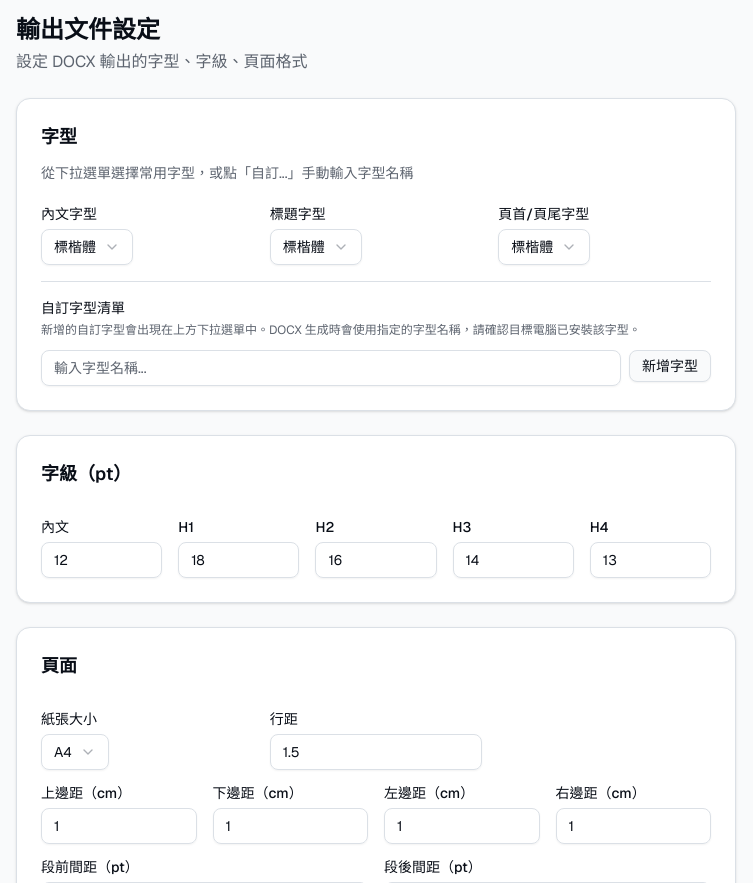
Test: DocumentSettingsPage — 自訂字型管理 › 可移除自訂字型（點擊 badge）
In the field with placeholder "輸入字型名稱...": (331, 368) [41,350,621,386], type "可刪字型"
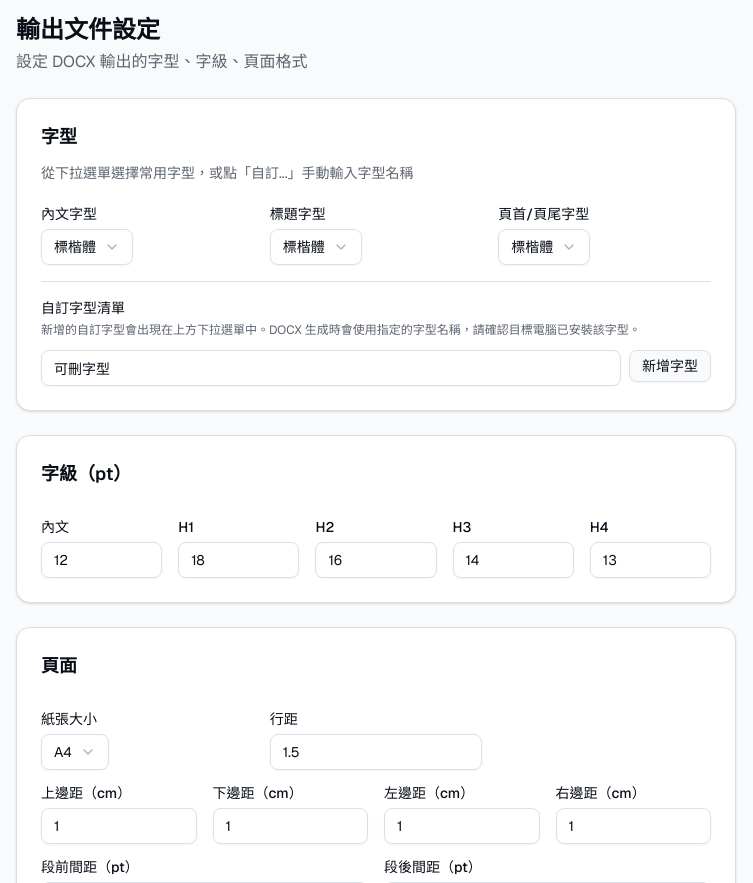
Click the button "新增字型": (670, 366) [629,350,711,382]
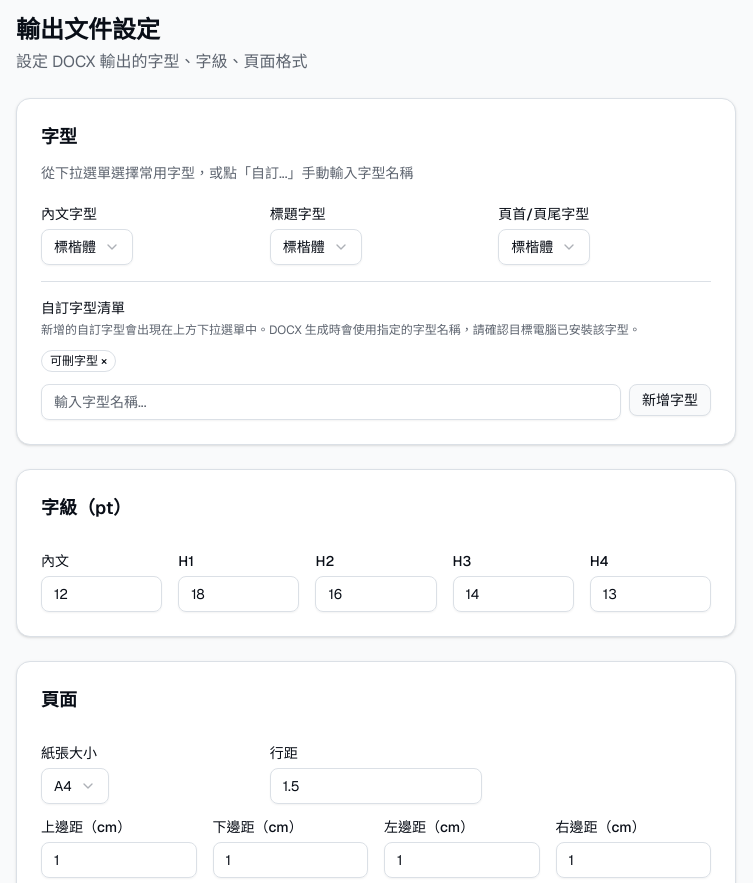
Check: the text "可刪字型 ×" is shown
點擊 badge 移除字型
Click the text "可刪字型 ×": (79, 361) [41,350,116,372]
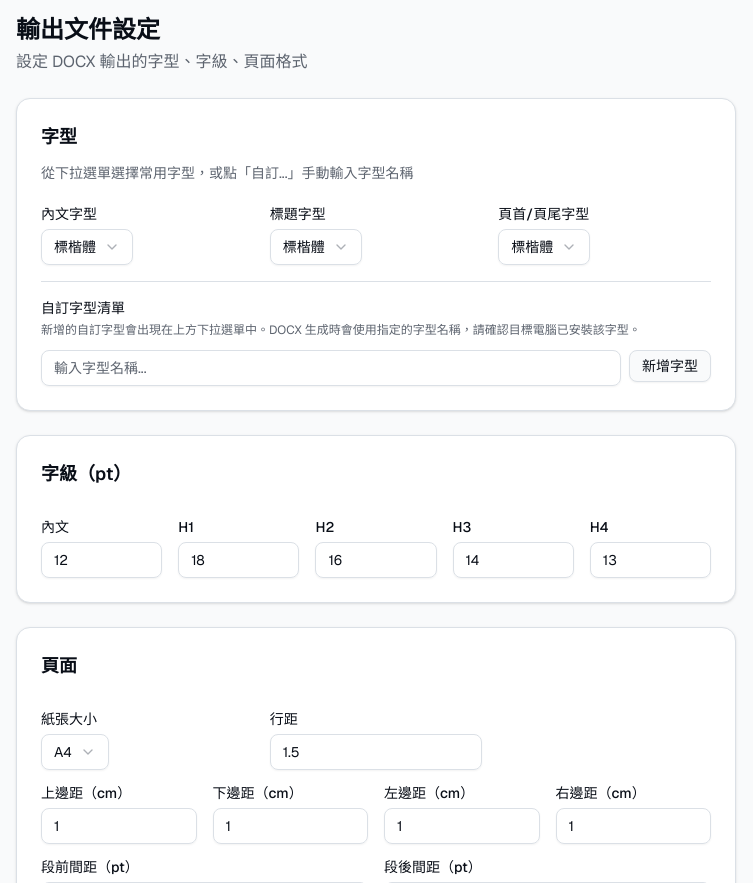
Check: the text "可刪字型 ×" is gone
